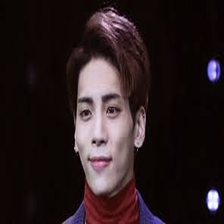no_mask: (76, 59, 133, 193)
